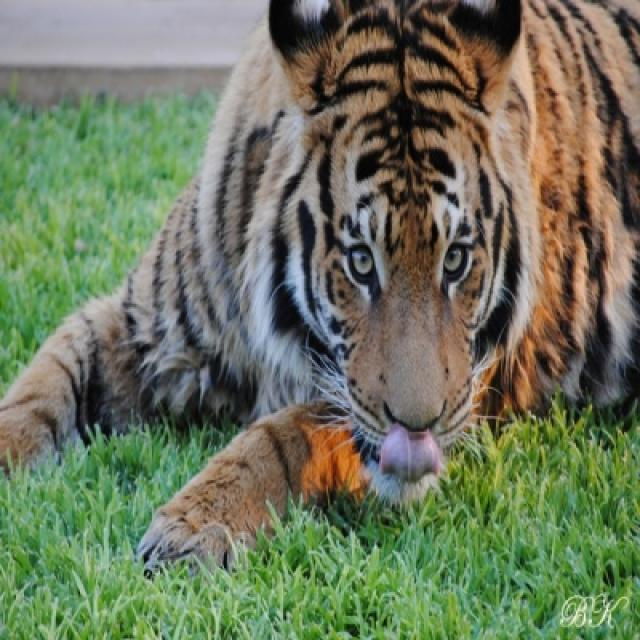Tiger: (0, 0, 638, 568)
